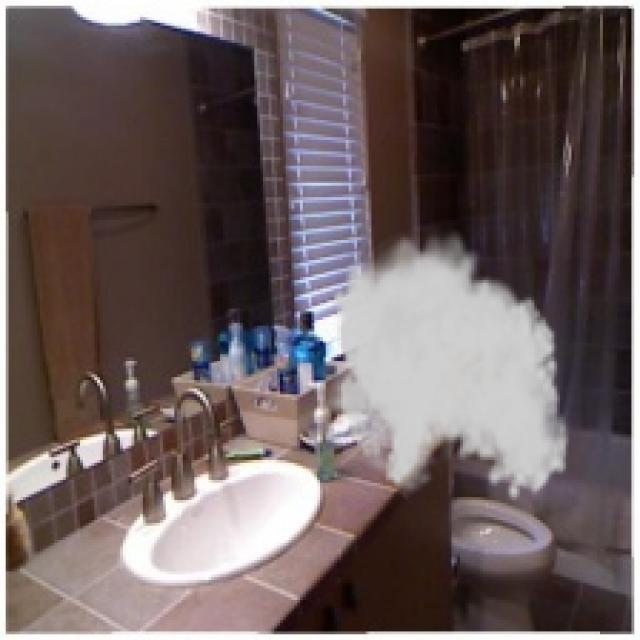smoke: (317, 223, 572, 503)
